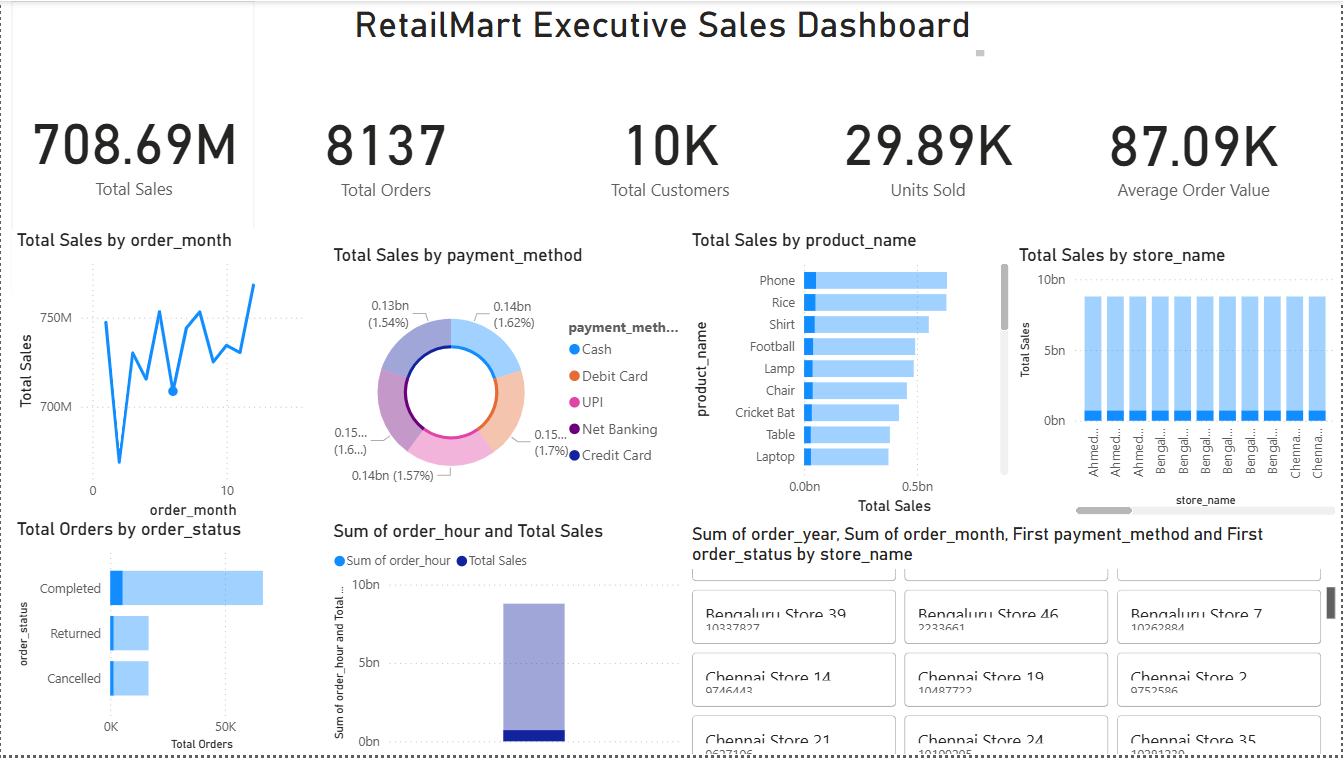

This screenshot's page, from the dashboard's own definition file:
{"tool":"powerbi","page":{"name":"Page 1","canvas":[1280,720],"ordinal":0},"visuals":[{"type":"card","fields":{"Values":["fact_sales.Total Sales"]},"box":[9.4,0,233.3,280.3],"z":0},{"type":"card","fields":{"Values":["fact_sales.Total Orders"]},"box":[242.7,0,250.2,282.2],"z":1000},{"type":"card","fields":{"Values":["fact_sales.Total Customers"]},"box":[498.6,0,280.3,282.2],"z":2000},{"type":"card","fields":{"Values":["fact_sales.Units Sold"]},"box":[745.1,0,280.3,282.2],"z":3000},{"type":"card","fields":{"Values":["fact_sales.Average Order Value"]},"box":[999,1.9,280.3,280.3],"z":4000},{"type":"lineChart","fields":{"Category":["fact_sales.order_month"],"Y":["fact_sales.Total Sales"]},"box":[9.4,218.2,284.1,280.3],"z":5000},{"type":"donutChart","fields":{"Category":["fact_sales.payment_method"],"Y":["fact_sales.Total Sales"]},"box":[312.3,231.4,342.4,263.4],"z":6000},{"type":"clusteredBarChart","fields":{"Category":["dim_product.product_name"],"Y":["fact_sales.Total Sales"]},"box":[654.7,218.2,312.3,276.6],"z":7000},{"type":"clusteredColumnChart","fields":{"Category":["store_performance.store_name"],"Y":["fact_sales.Total Sales"]},"box":[967.1,231.4,312.3,263.4],"z":8000},{"type":"barChart","fields":{"Category":["fact_sales.order_status"],"Y":["fact_sales.Total Orders"]},"box":[9.4,494.8,284.1,225.8],"z":9000},{"type":"columnChart","fields":{"Y":["Sum(fact_sales.order_hour)","fact_sales.Total Sales"]},"box":[312,495,342,225],"z":10000},{"type":"advancedSlicerVisual","fields":{"Label":["Sum(fact_sales.order_year)"],"Values":["dim_store.store_name"]},"box":[654.7,498.6,624.6,222],"z":11000},{"type":"textbox","title":"RetailMart Executive Sales Dashboard","box":[333,1.9,611.5,56.4],"z":12000}]}

Visuals, with their boxes in screenshot pixels (x1, y1, x2, y2), scaled from the page's 1280x720 canvas onto the 1343x764 screenshot:
card - fact_sales.Total Sales: detection(10, 0, 255, 297)
card - fact_sales.Total Orders: detection(255, 0, 517, 299)
card - fact_sales.Total Customers: detection(523, 0, 817, 299)
card - fact_sales.Units Sold: detection(782, 0, 1076, 299)
card - fact_sales.Average Order Value: detection(1048, 2, 1342, 299)
lineChart - fact_sales.order_month x fact_sales.Total Sales: detection(10, 232, 308, 529)
donutChart - fact_sales.payment_method x fact_sales.Total Sales: detection(328, 246, 687, 525)
clusteredBarChart - dim_product.product_name x fact_sales.Total Sales: detection(687, 232, 1015, 525)
clusteredColumnChart - store_performance.store_name x fact_sales.Total Sales: detection(1015, 246, 1342, 525)
barChart - fact_sales.order_status x fact_sales.Total Orders: detection(10, 525, 308, 763)
columnChart - Sum(fact_sales.order_hour) x fact_sales.Total Sales: detection(327, 525, 686, 763)
advancedSlicerVisual - Sum(fact_sales.order_year) x dim_store.store_name: detection(687, 529, 1342, 763)
"RetailMart Executive Sales Dashboard" textbox: detection(349, 2, 991, 62)
